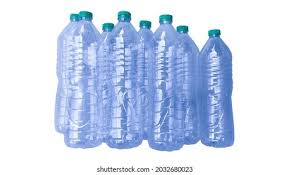Botella: (57, 14, 232, 153)
